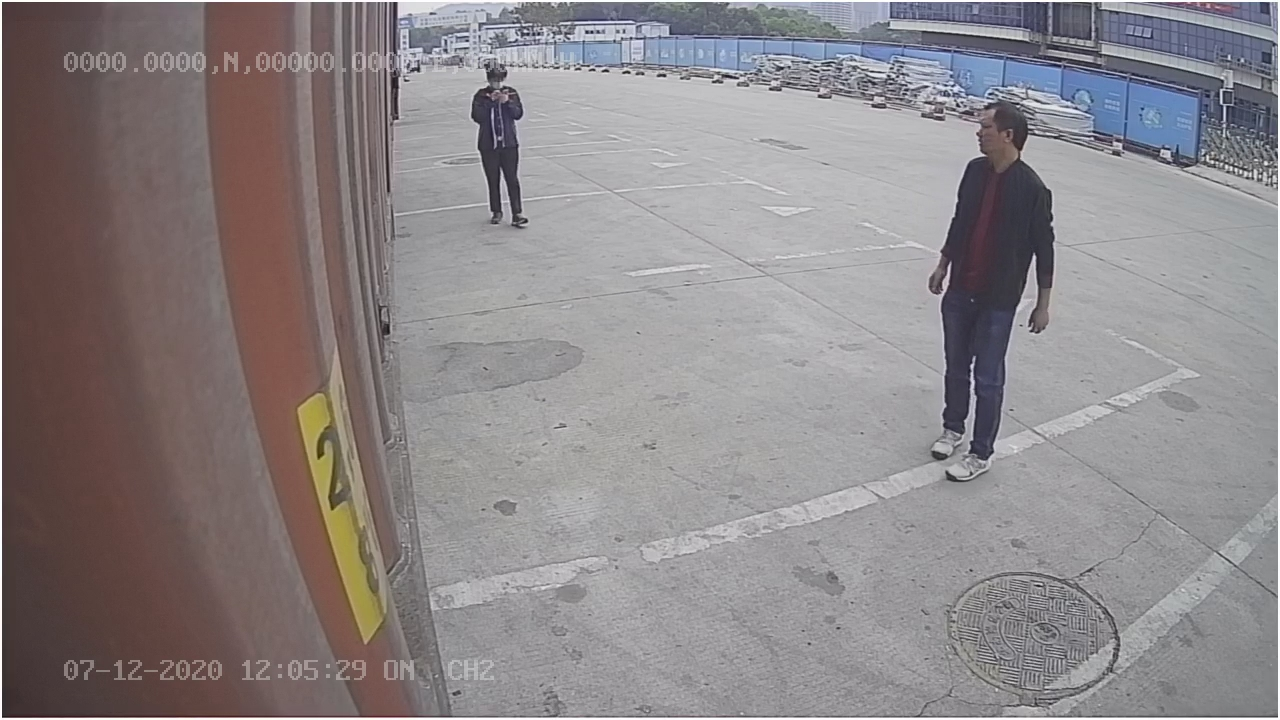person: (926, 99, 1063, 492)
